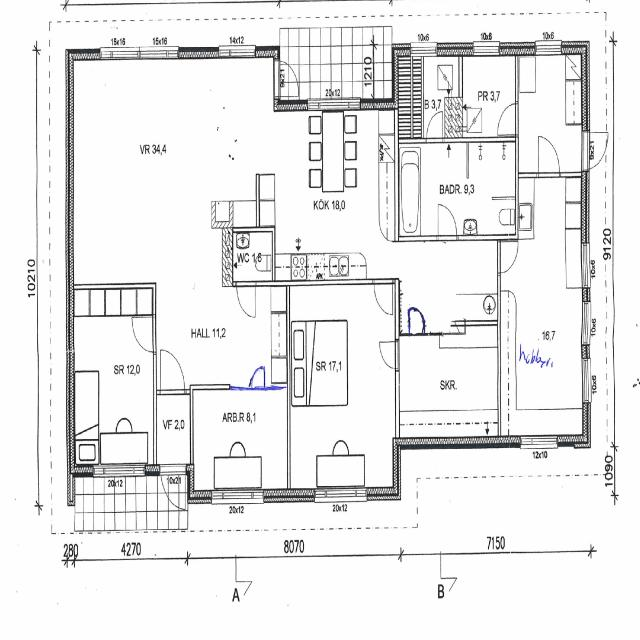door: (160, 463, 185, 518), (160, 347, 185, 395), (581, 133, 610, 170), (274, 60, 302, 96), (538, 135, 560, 178), (133, 319, 157, 352), (236, 278, 255, 316), (438, 204, 457, 241), (247, 354, 266, 391), (374, 278, 392, 316), (497, 243, 519, 274), (497, 104, 518, 134), (378, 341, 399, 370), (408, 300, 425, 334), (426, 109, 442, 143)
